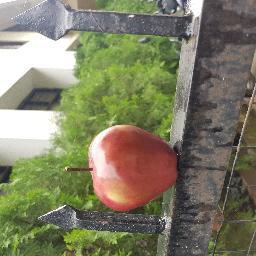Good_apple: (88, 123, 180, 208)
